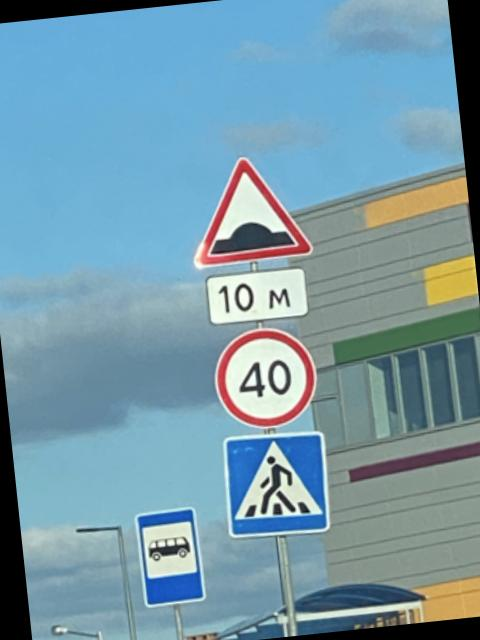crosswalk-sign: (218, 426, 335, 542)
